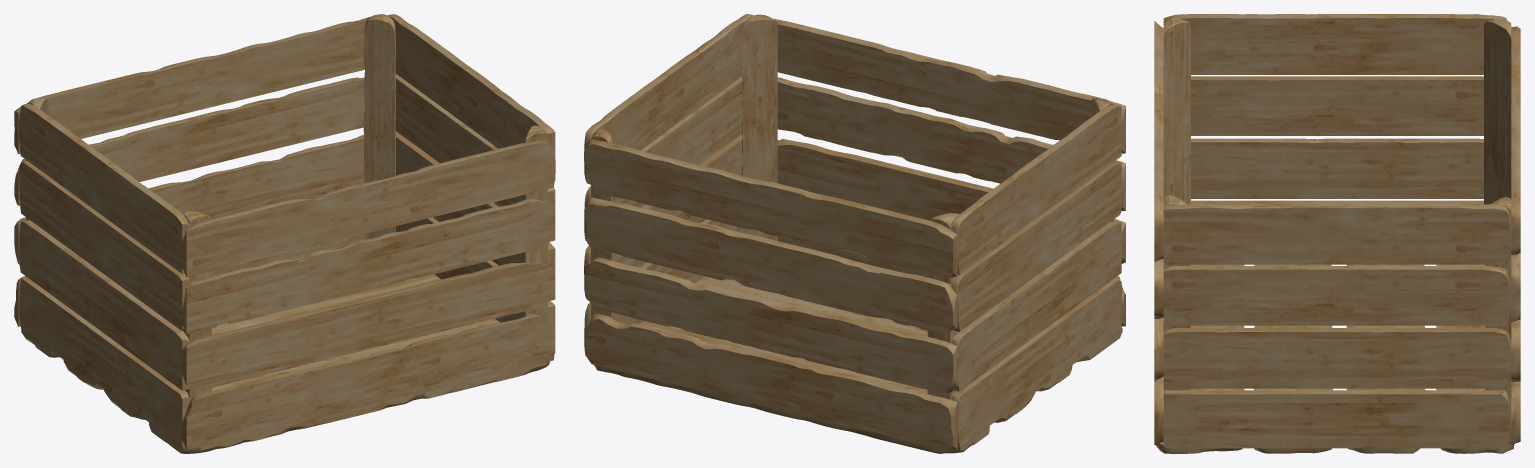
The model's file is wooden_crate.glb.
The picture shows the model from 3 angles, left to right: view 1: azimuth 30°, elevation 25°; view 2: azimuth 150°, elevation 25°; view 3: azimuth 270°, elevation 25°; orthographic projection. The views are drawn at different scales.
Parts seen in each view (by area): view 1: crate_0; view 2: crate_0; view 3: crate_0.
Part boxes in pixels (x1,y1,x2,y2): crate_0: (14, 14, 555, 453); crate_0: (584, 14, 1125, 453); crate_0: (1154, 14, 1520, 453).
Bounding box in the file's own units: 0.5 × 0.3 × 0.4.
1 material, 1 textured.
